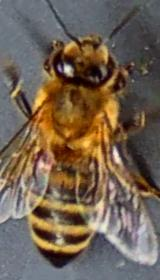varroa_mite: (32, 148, 56, 171)
